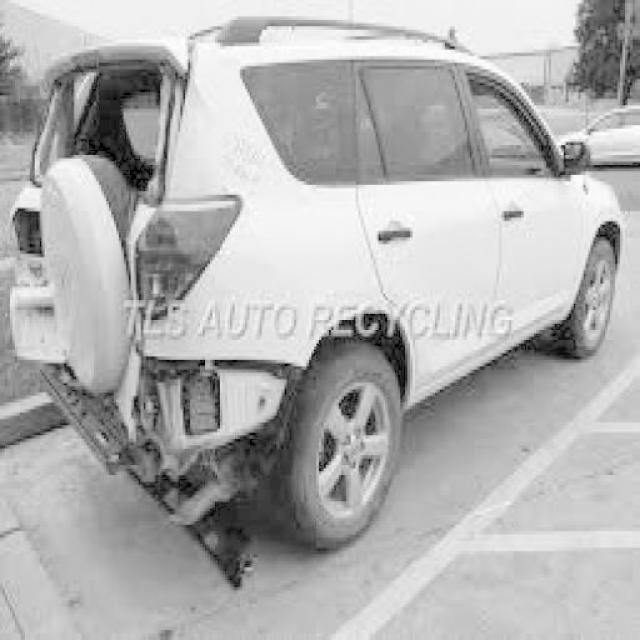car damage: (12, 52, 299, 563)
